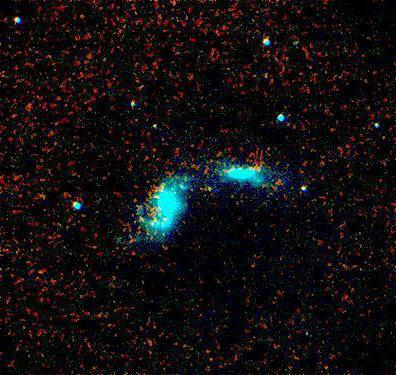star: (191, 177, 221, 207)
